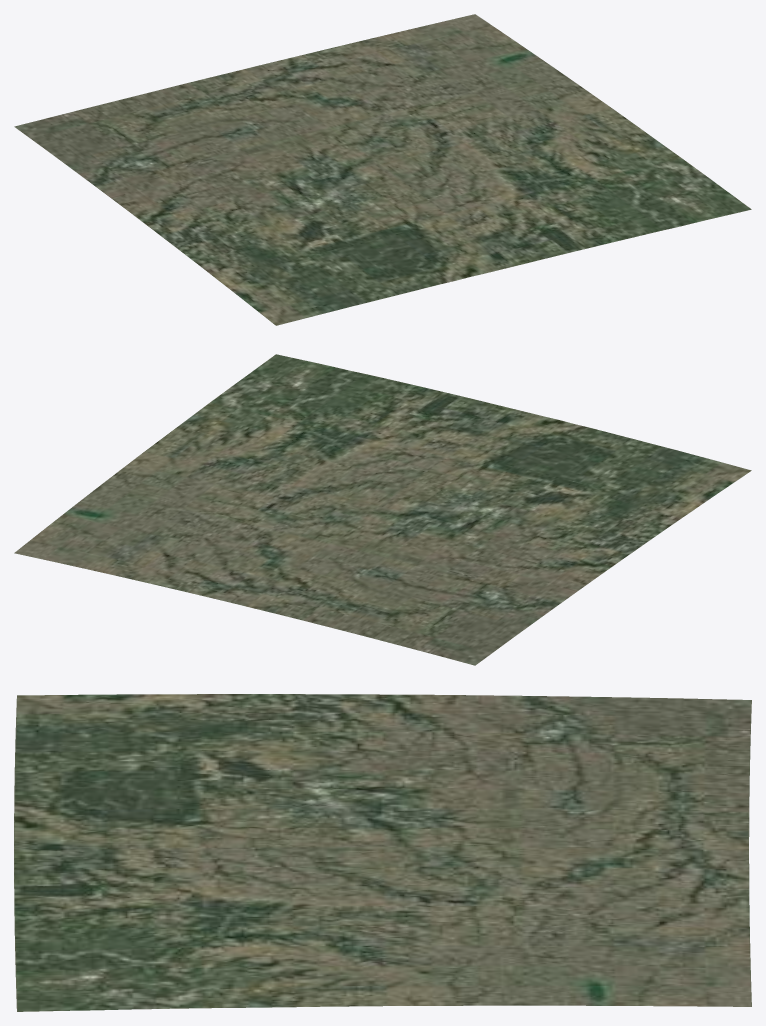
3 renders of one model, top to bottom at view 1: azimuth 30°, elevation 25°; view 2: azimuth 150°, elevation 25°; view 3: azimuth 270°, elevation 25°, orthographic. The views are drawn at different scales.
Size of the model in its own units: 244226 by 2426 by 240455.
Materials: 1 (1 with a texture image).
